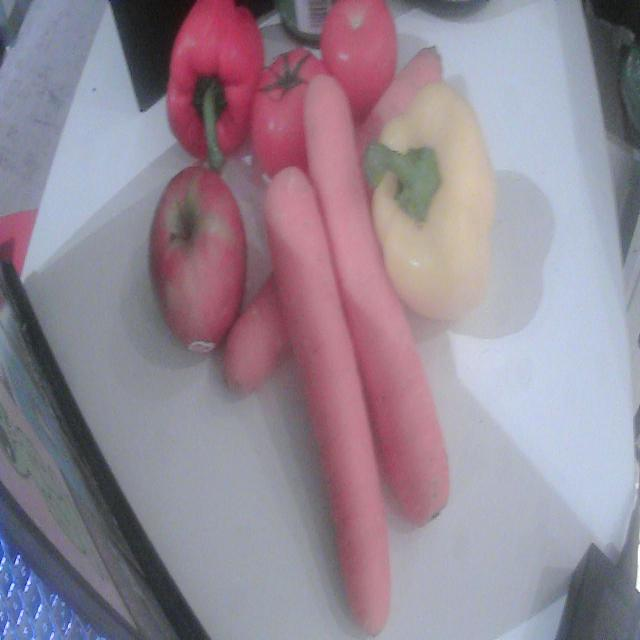Apple: (150, 166, 247, 353)
Bell Pepper: (368, 82, 495, 319), (166, 0, 264, 161)
Carrot: (306, 77, 449, 524), (266, 169, 390, 635)
Tomato: (250, 49, 326, 177), (320, 0, 396, 124)
